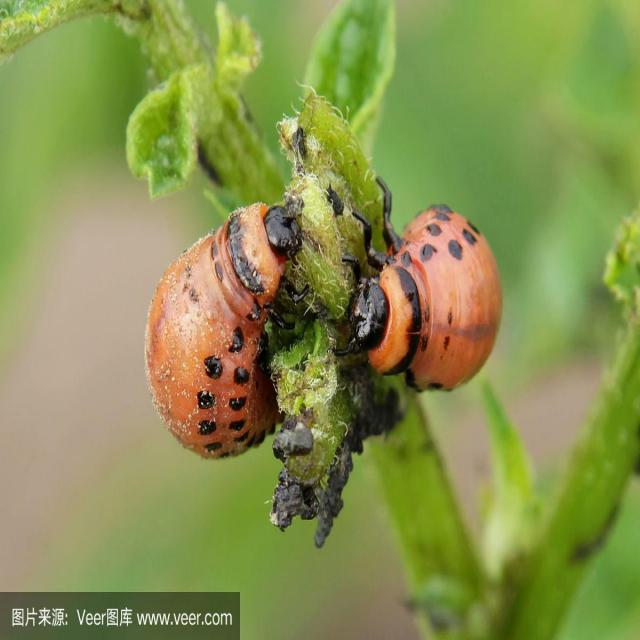ShuCaiHuaBanChong-Larva-: (130, 193, 304, 461), (336, 176, 508, 399)
